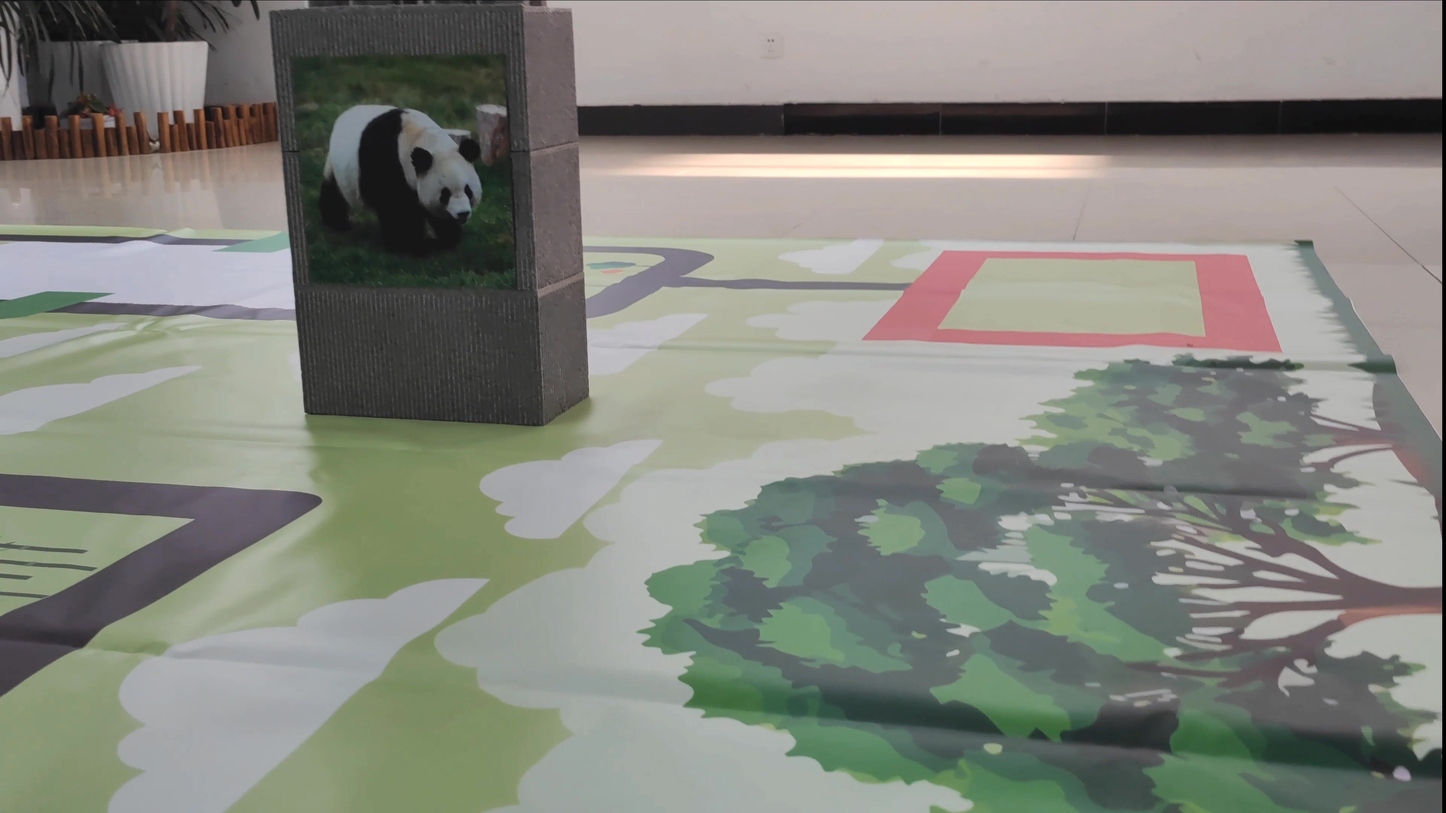panda: (294, 83, 521, 278)
